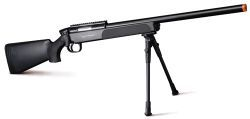rifle: (6, 5, 248, 107)
